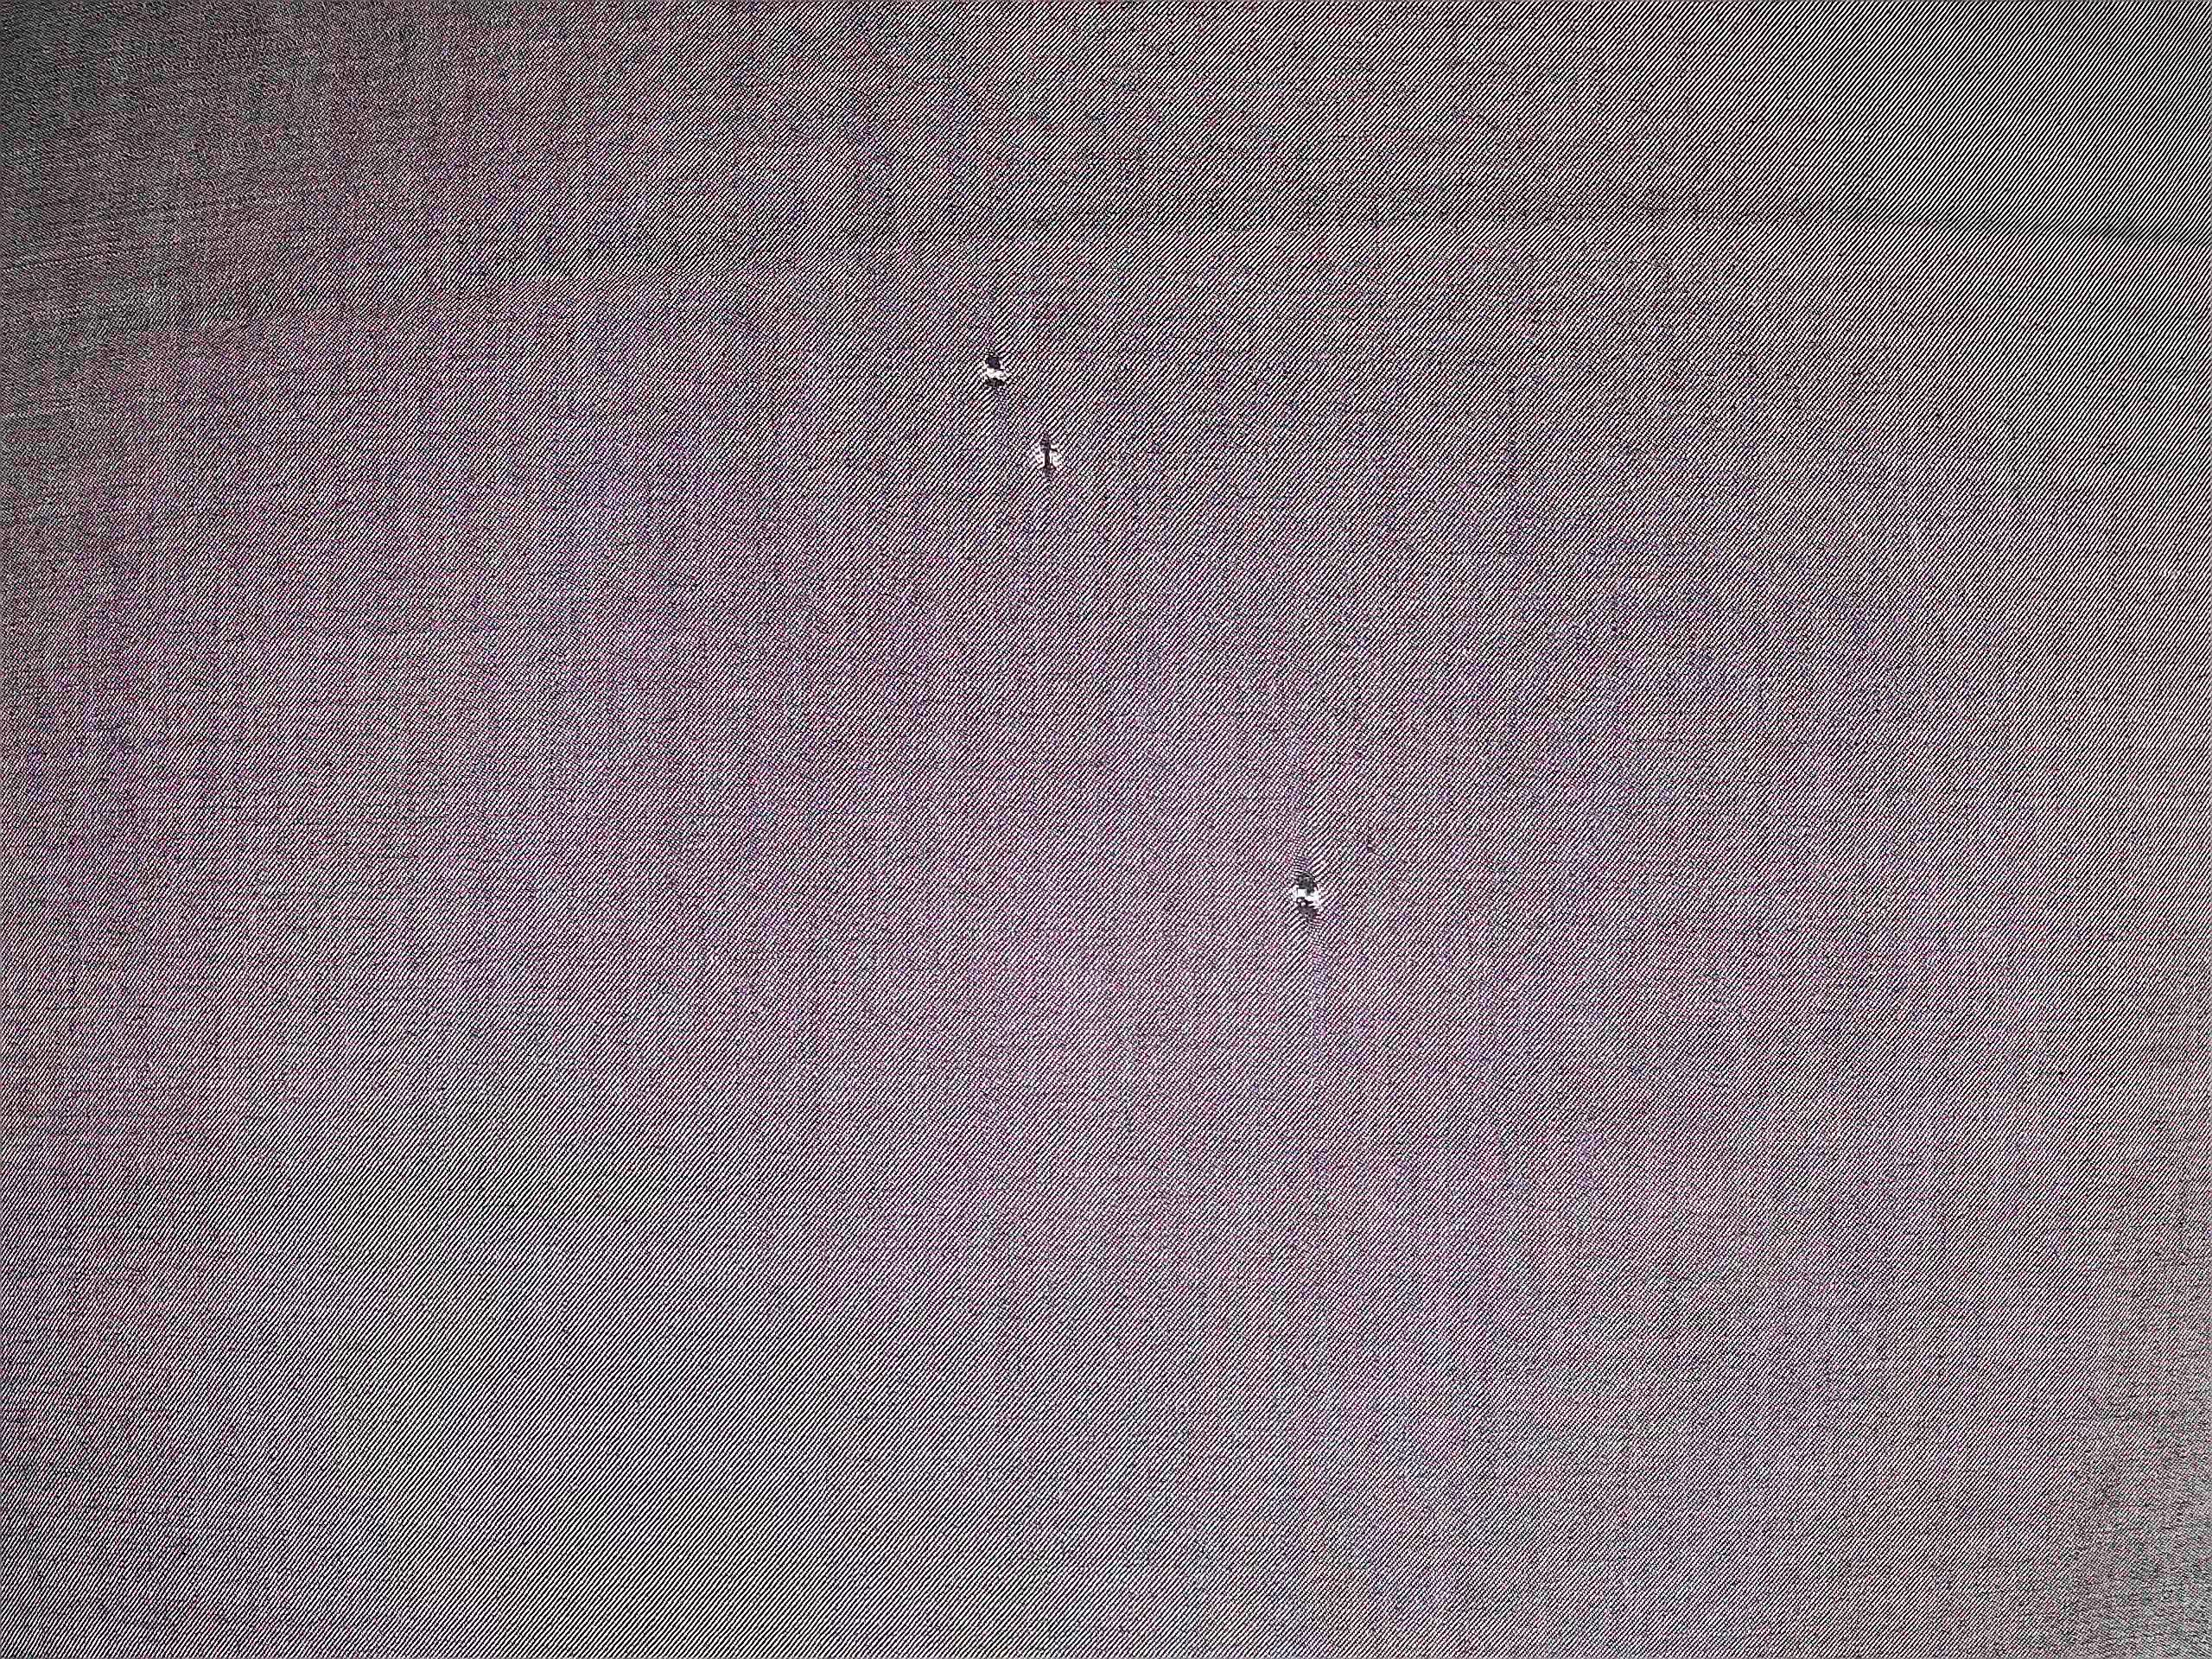rubbing-hole: (942, 308, 1099, 509), (1275, 850, 1348, 939)
